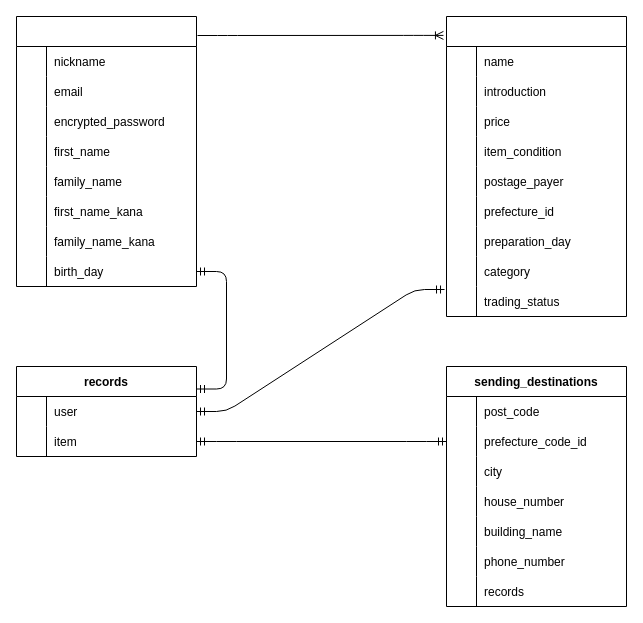
The diagram is 643 pixels wide and 623 high, and some of its shapes have lost their labels. The box of each missing label's shape, as (x1, y1, x2, y2) in pixels:
items: (446, 16, 626, 316)
users: (16, 16, 196, 286)
